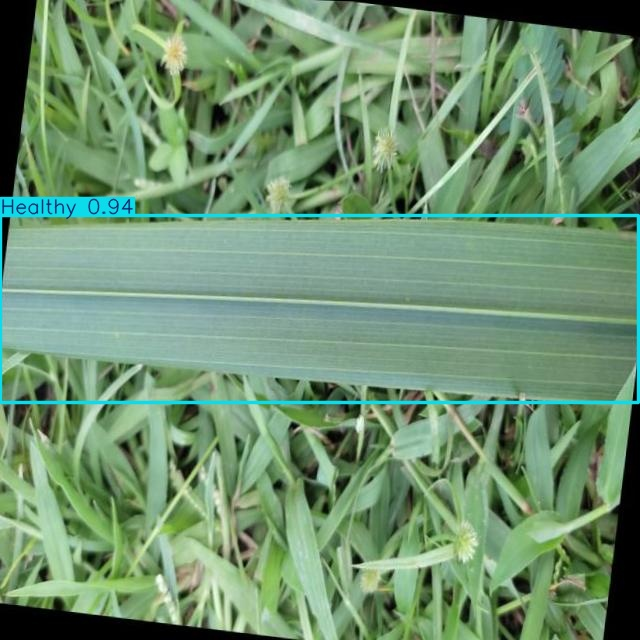Healthy: (1, 216, 639, 402)
